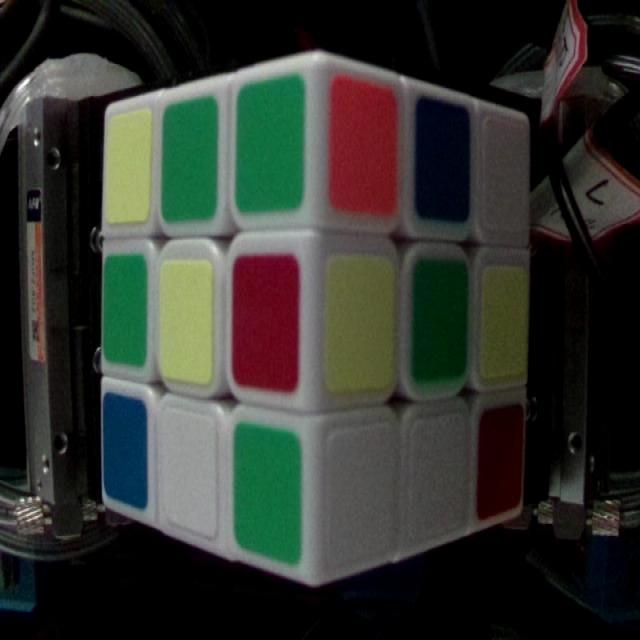b: (418, 88, 470, 225), (100, 396, 148, 519)
g: (235, 426, 301, 565), (236, 78, 302, 214), (160, 94, 215, 223), (414, 257, 469, 385), (102, 255, 148, 365)
o: (334, 70, 398, 213)
r: (232, 248, 300, 395), (478, 405, 522, 511)
w: (326, 432, 396, 562), (156, 411, 216, 530), (415, 417, 467, 534), (480, 112, 530, 233)
y: (327, 251, 391, 390), (163, 260, 211, 382), (482, 262, 528, 384), (104, 110, 151, 219)
